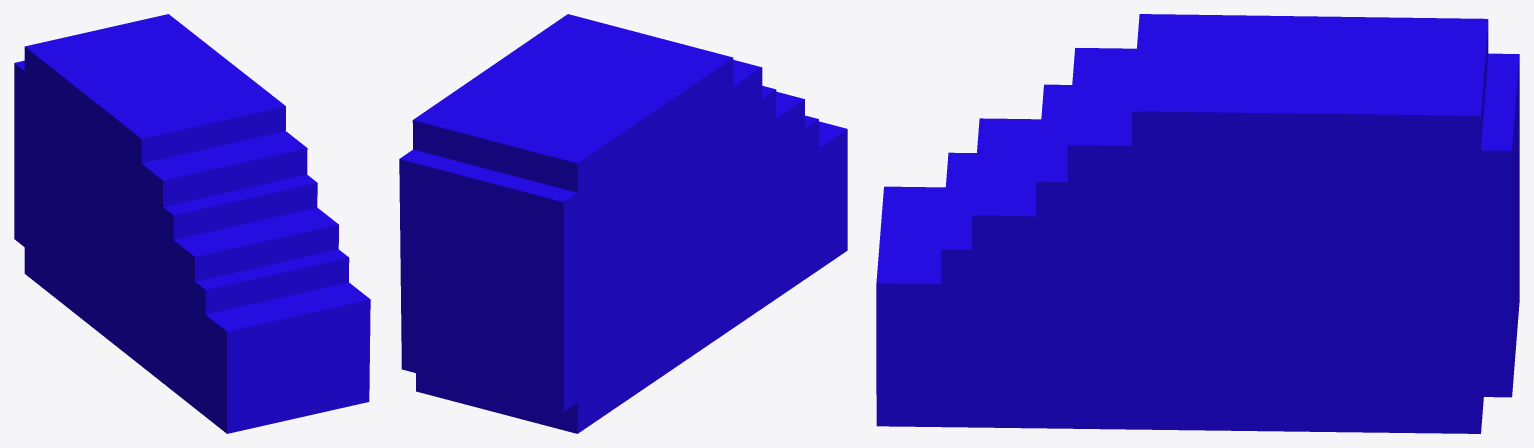
The model's file is blanc.glb.
The picture shows the model from 3 angles, left to right: view 1: azimuth 30°, elevation 25°; view 2: azimuth 150°, elevation 25°; view 3: azimuth 270°, elevation 25°; orthographic projection. The views are drawn at different scales.
Parts seen in each view (by area): view 1: Curve; view 2: Curve; view 3: Curve.
Part boxes in pixels (bbox=[...]): Curve: bbox=[14, 14, 370, 433]; Curve: bbox=[399, 14, 847, 433]; Curve: bbox=[876, 14, 1519, 433].
Bounding box in the file's own units: 1.86 × 2.62 × 4.78.
